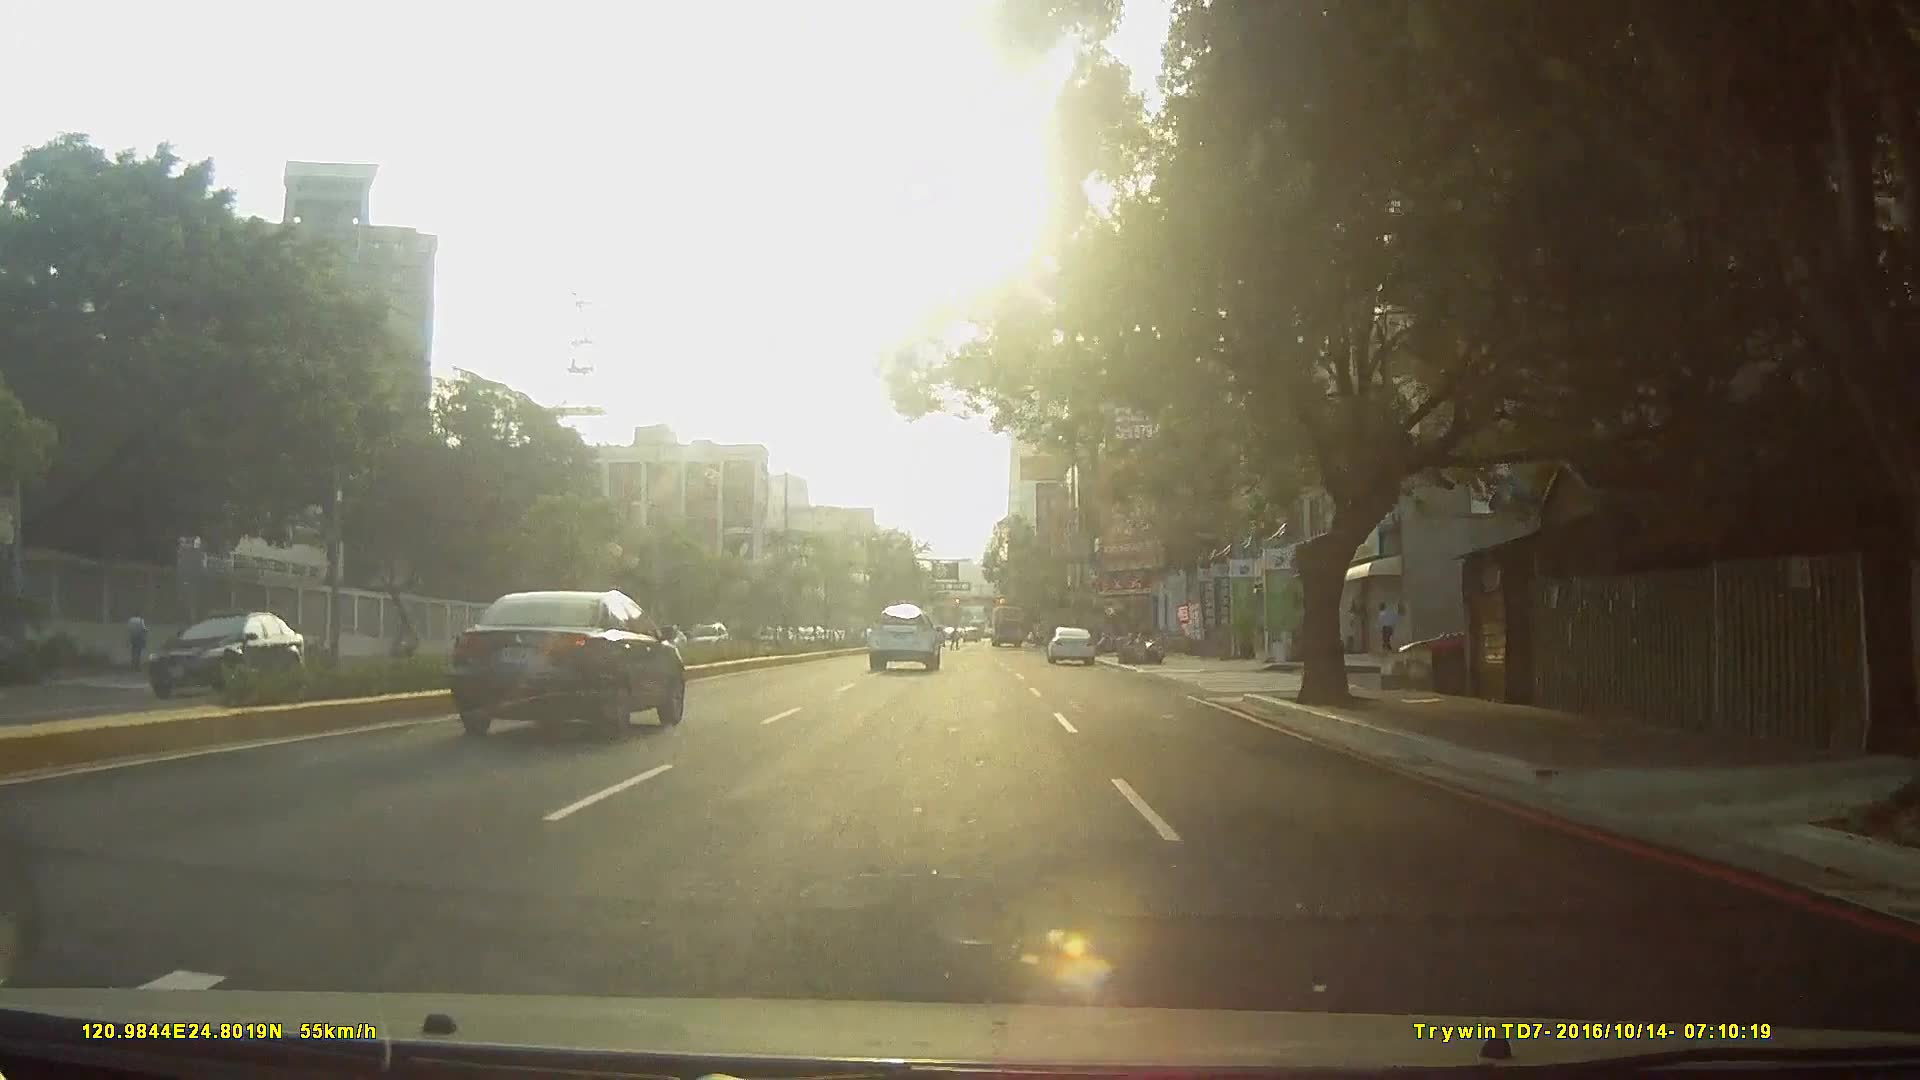pedestrian: (130, 609, 150, 675), (1377, 605, 1397, 657)
vehicle: (451, 592, 688, 747), (135, 607, 311, 707), (866, 605, 943, 674), (1045, 628, 1096, 669), (986, 608, 1026, 653)
